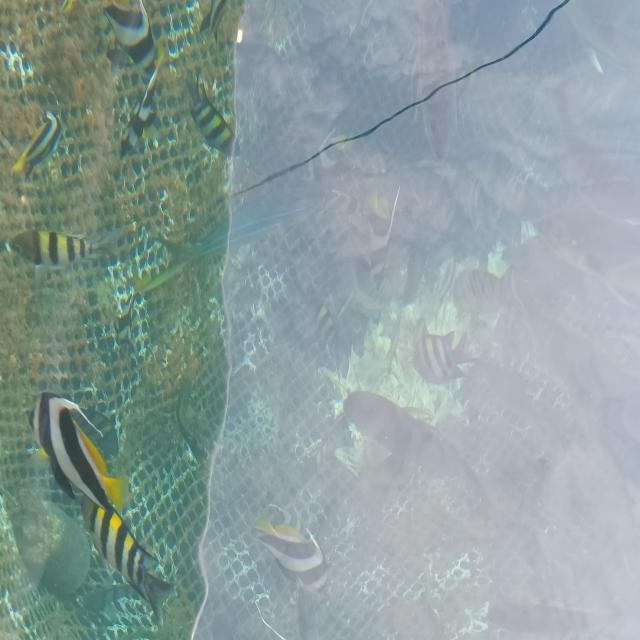ikan: (338, 388, 495, 514), (23, 390, 130, 520), (78, 492, 178, 628), (251, 515, 330, 594), (184, 68, 240, 160), (3, 226, 122, 268), (412, 318, 483, 386), (9, 109, 63, 182), (101, 0, 156, 67), (452, 265, 514, 319)
